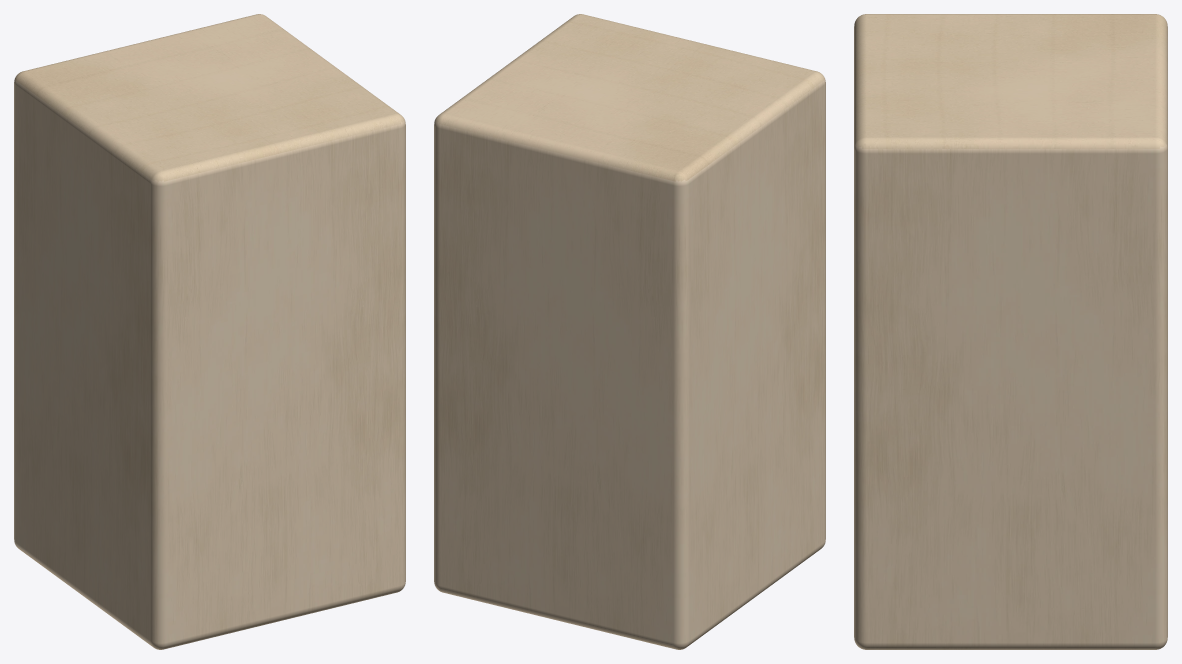
Rendered from rook-white.glb.
The picture shows the model from 3 angles, left to right: view 1: azimuth 30°, elevation 25°; view 2: azimuth 150°, elevation 25°; view 3: azimuth 270°, elevation 25°; orthographic projection. The views are drawn at different scales.
Parts seen in each view (by area): view 1: Rez_Vez_bily; view 2: Rez_Vez_bily; view 3: Rez_Vez_bily.
Part boxes in pixels (x1,y1,x2,y2): Rez_Vez_bily: (14,14,405,649); Rez_Vez_bily: (434,14,825,649); Rez_Vez_bily: (854,14,1167,649).
Bounding box in the file's own units: 0.4834 × 0.87 × 0.4834.
Materials: 2 (2 with a texture image).
